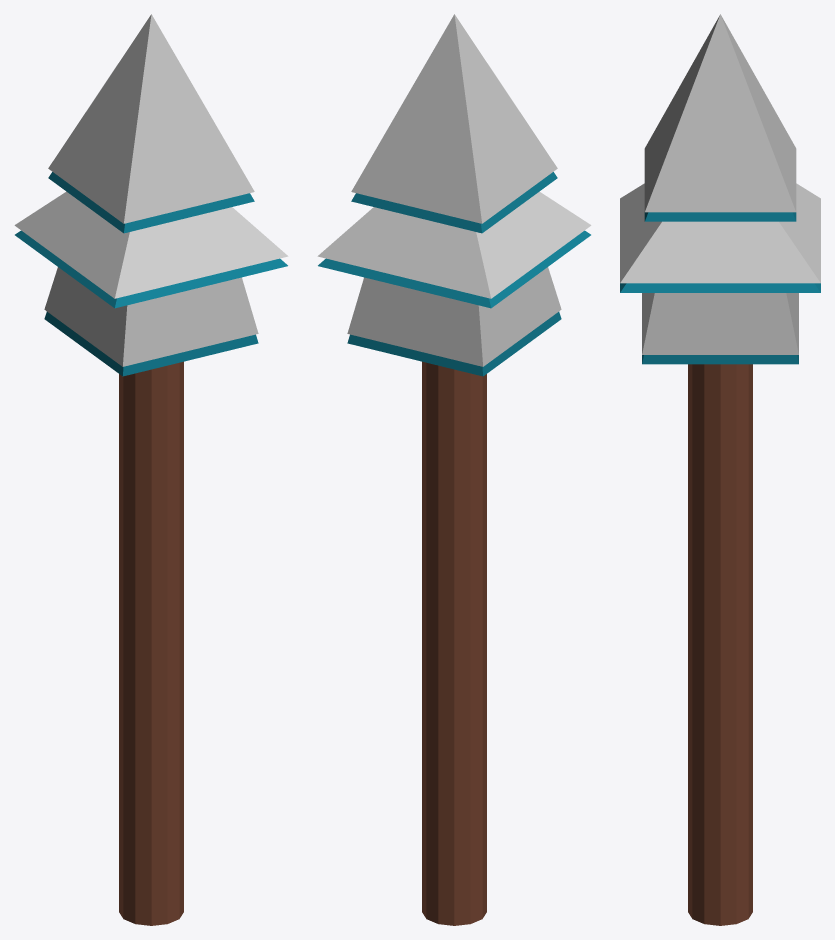
File: Tree_15_winter_blue_vc.fbx
3 renders of one model, left to right at view 1: azimuth 30°, elevation 25°; view 2: azimuth 150°, elevation 25°; view 3: azimuth 270°, elevation 25°, orthographic.
Parts seen in each view (by area): view 1: Tree_15_winter_blue_vc; view 2: Tree_15_winter_blue_vc; view 3: Tree_15_winter_blue_vc.
Part boxes in pixels (<box>): Tree_15_winter_blue_vc: <box>14,14,288,925</box>; Tree_15_winter_blue_vc: <box>317,14,591,925</box>; Tree_15_winter_blue_vc: <box>620,14,820,925</box>.
Size of the model in its own units: 68.73 by 339 by 68.73.
